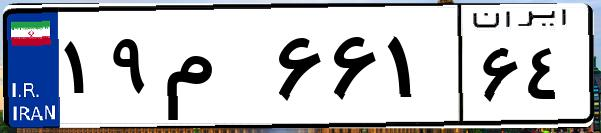1: (385, 28, 445, 110), (57, 26, 110, 100)
4: (525, 38, 570, 115)
6: (270, 28, 330, 110), (330, 28, 385, 110), (475, 38, 525, 113)
9: (110, 28, 158, 98)
م: (158, 20, 270, 120)
